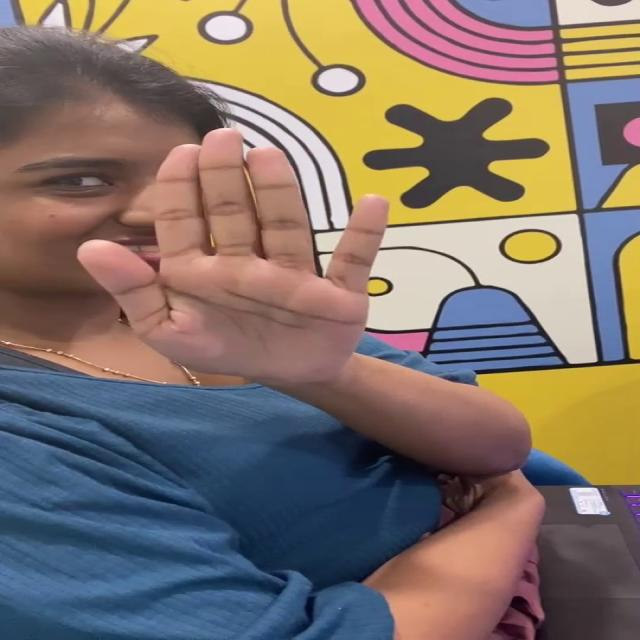no-gloves: (30, 105, 435, 413)
